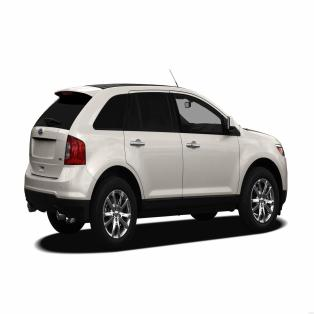Auto: (25, 85, 288, 248)
